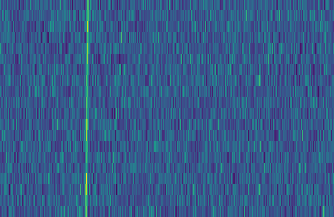signal: (80, 0, 90, 217)
